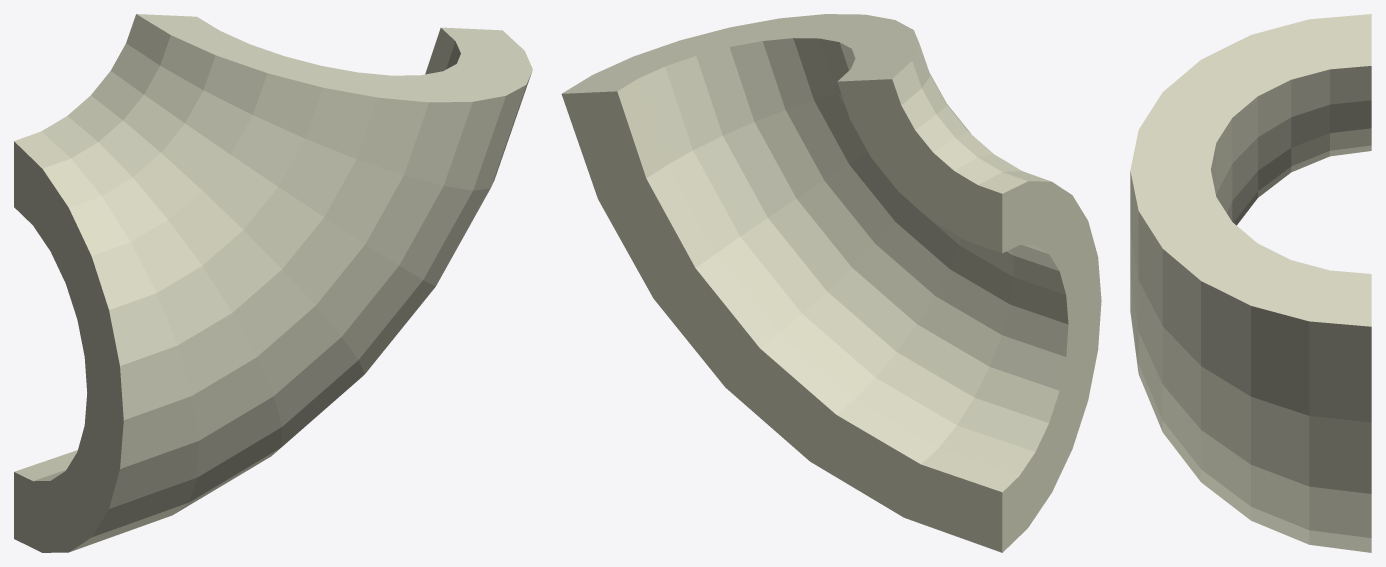
Rendered from section_016.obj.
The picture shows the model from 3 angles, left to right: view 1: azimuth 30°, elevation 25°; view 2: azimuth 150°, elevation 25°; view 3: azimuth 270°, elevation 25°; orthographic projection. The views are drawn at different scales.
Size of the model in its own units: 7.71 by 7.47 by 3.
